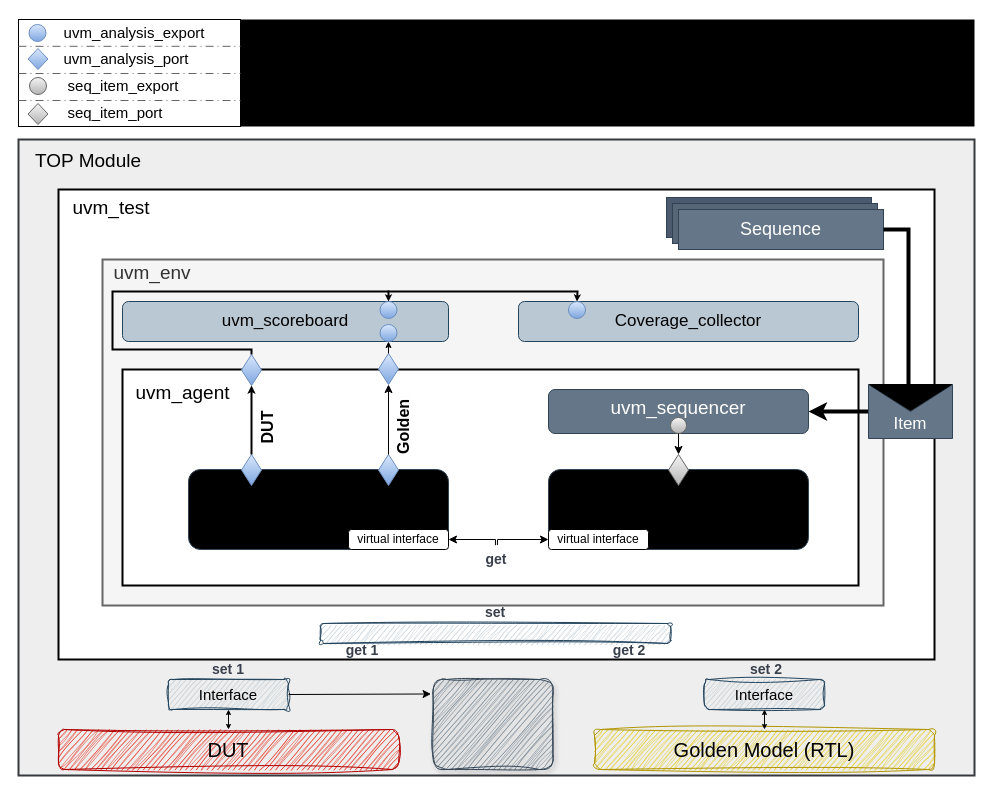
Some shapes in this 992 by 794 pixel diagram are drawn without their labels. Here are the shapes that lost their labels. From the top down, the centre of each, then its label:
point 495,633: CFG
point 493,725: Assertions
